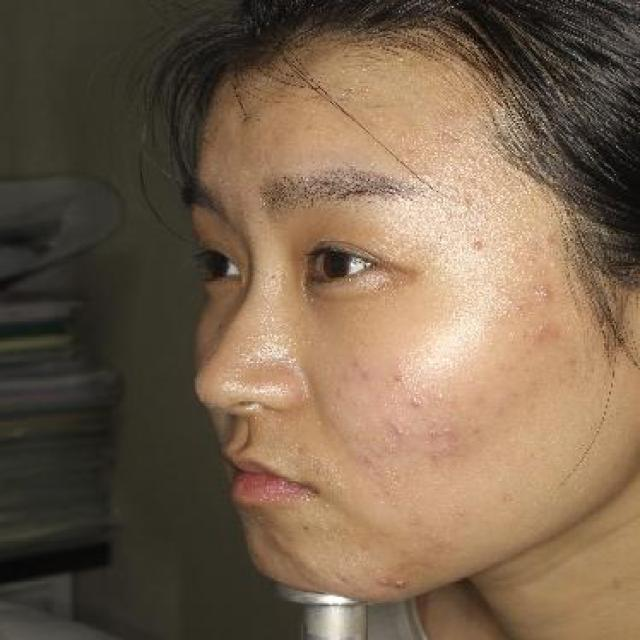dark spot: (385, 368, 414, 388), (354, 366, 376, 382)
papules: (402, 390, 430, 416)
pustules: (388, 574, 412, 595), (466, 235, 491, 254), (536, 285, 561, 303), (534, 232, 558, 248), (376, 571, 394, 589)
whiteheads: (431, 388, 452, 403), (498, 489, 515, 506), (502, 252, 520, 268), (522, 254, 541, 266), (546, 257, 561, 271)
